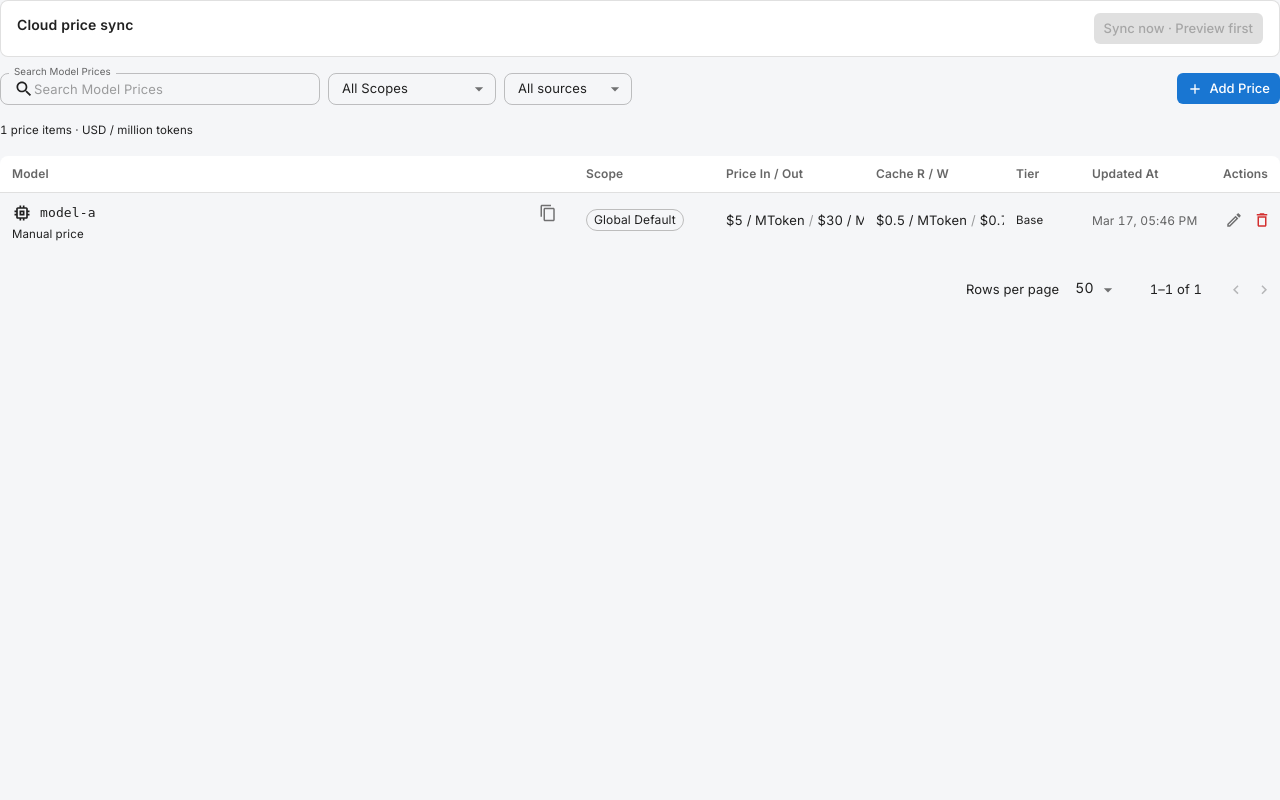
admin console smoke test › updates a price as a new version and reports historical repricing
The image size is (1280, 800).
Click the button named "Edit price model-a" at (1234, 220), box [1220,206,1248,234]
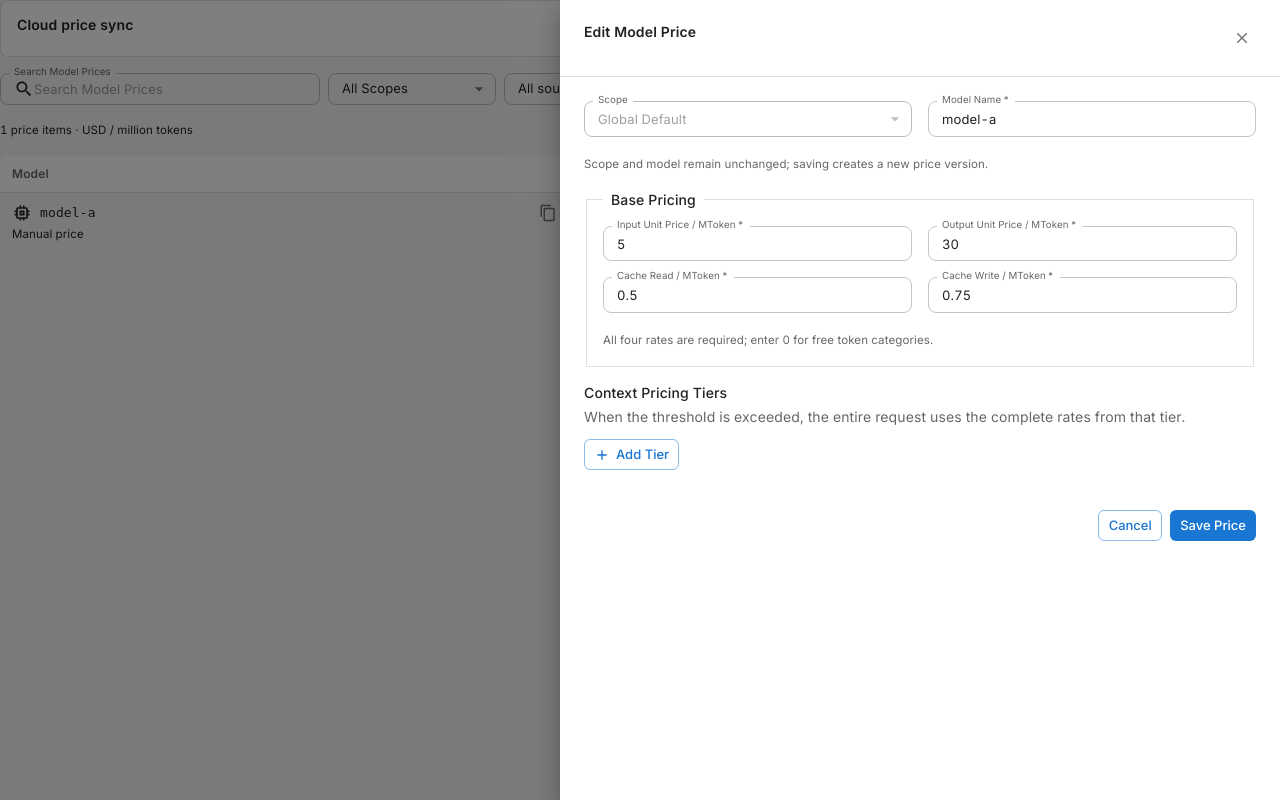
Replace the text in the field showing "5" with "6" at (758, 244), box [603,226,912,262]
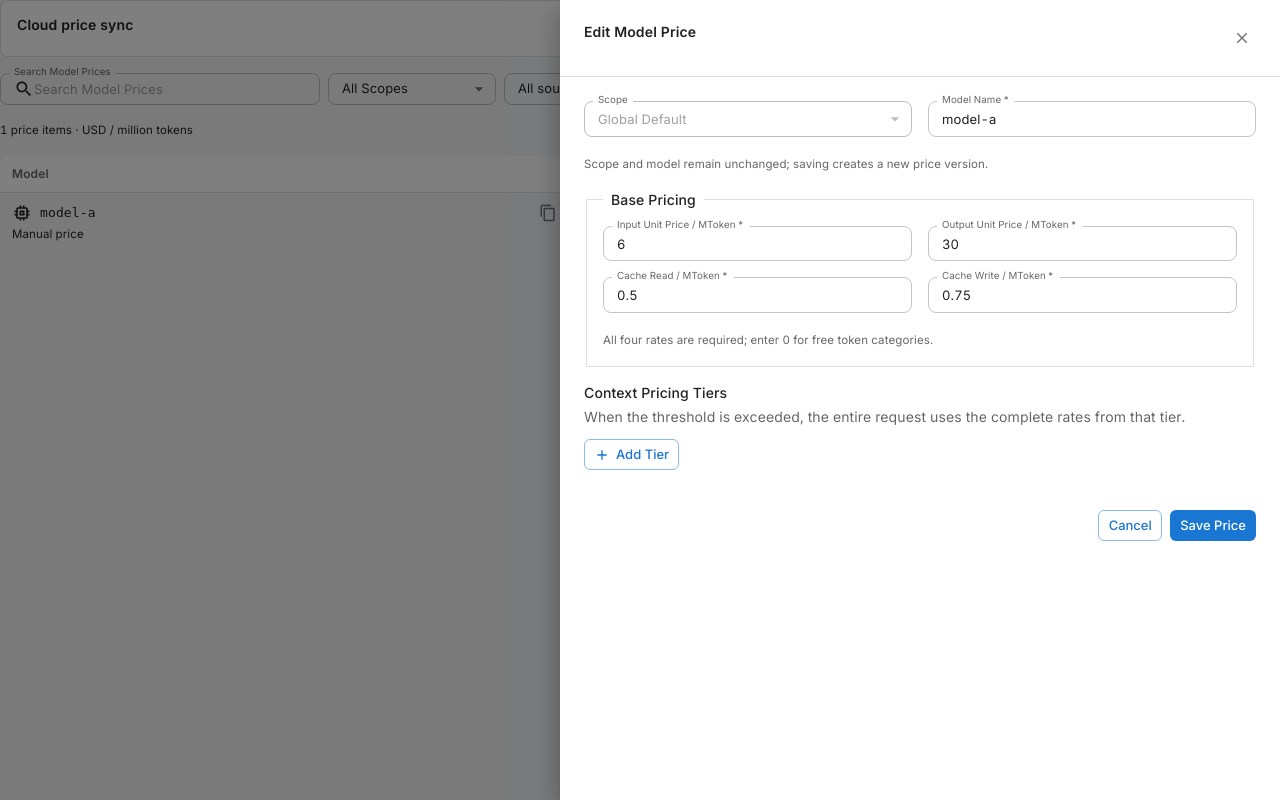
Click the button "Save Price" at (1213, 525), box [1170,510,1256,541]
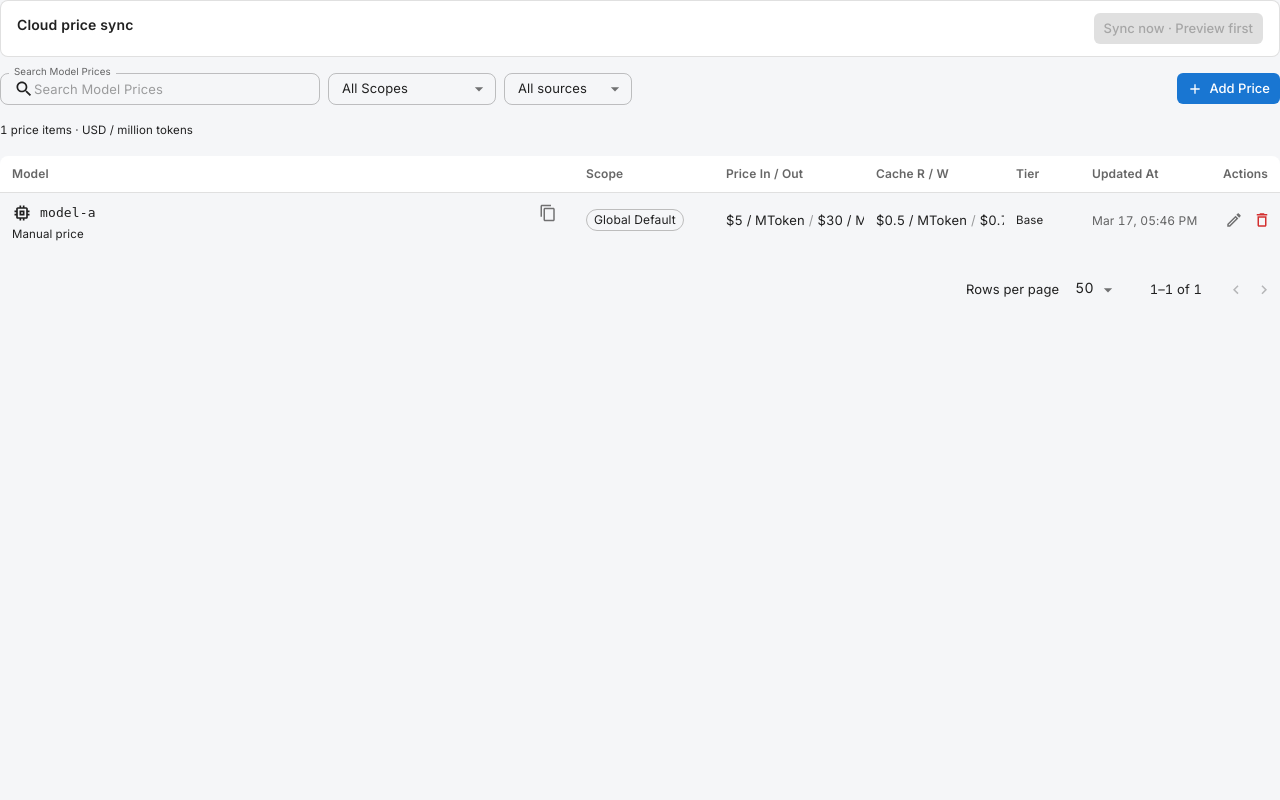
Check: the heading "Edit Model Price" is gone
